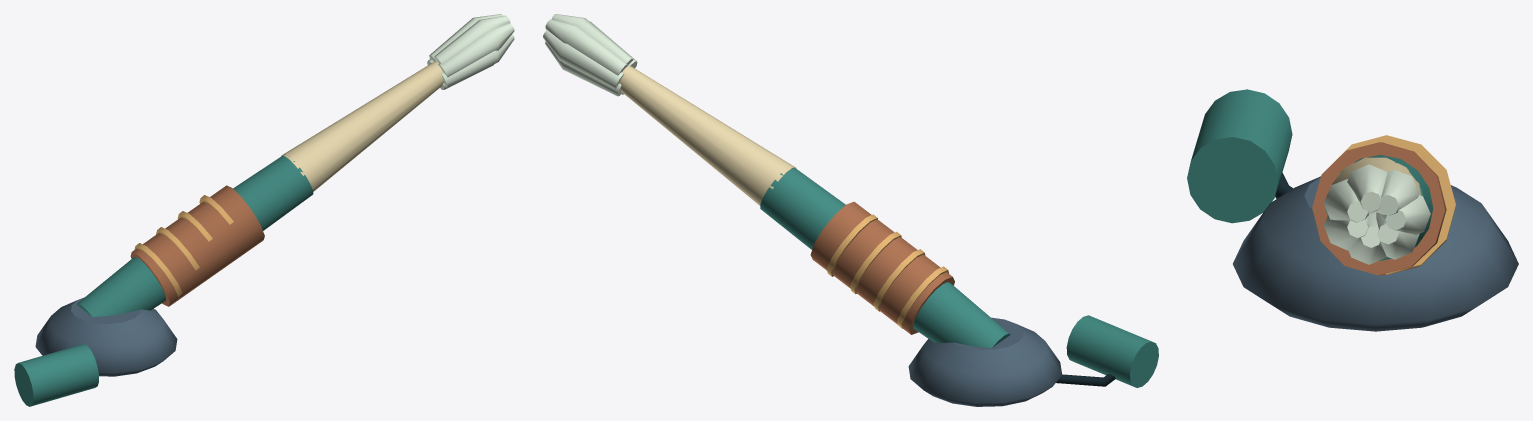
The picture shows the model from 3 angles, left to right: view 1: azimuth 30°, elevation 25°; view 2: azimuth 150°, elevation 25°; view 3: azimuth 270°, elevation 25°; orthographic projection. The views are drawn at different scales.
Visible parts, largest first — view 1: PR127 enamel and hardware; view 2: PR127 enamel and hardware; view 3: PR127 enamel and hardware.
Part boxes in pixels (bbox=[...]): PR127 enamel and hardware: bbox=[14, 14, 514, 406]; PR127 enamel and hardware: bbox=[543, 14, 1158, 406]; PR127 enamel and hardware: bbox=[1187, 89, 1518, 331].
Bounding box in the file's own units: 0.24 × 0.1075 × 0.0664.
